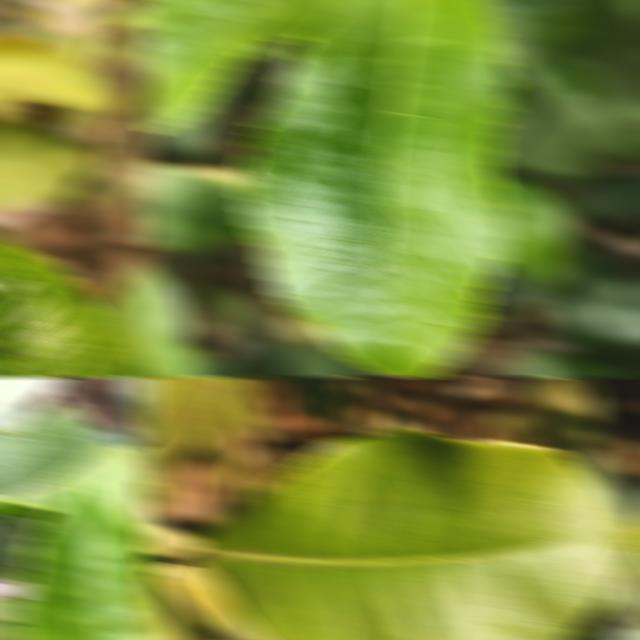Leaf: (240, 0, 514, 378), (193, 429, 640, 640), (141, 0, 353, 133), (482, 0, 640, 178), (15, 472, 153, 640), (0, 240, 150, 378), (0, 442, 152, 536), (141, 161, 254, 250), (550, 254, 640, 365), (0, 121, 97, 222), (0, 35, 119, 112), (0, 400, 97, 493), (496, 176, 576, 287), (197, 376, 266, 500), (141, 248, 204, 378), (517, 376, 606, 467), (0, 376, 70, 429), (604, 547, 640, 626), (115, 443, 153, 483)
